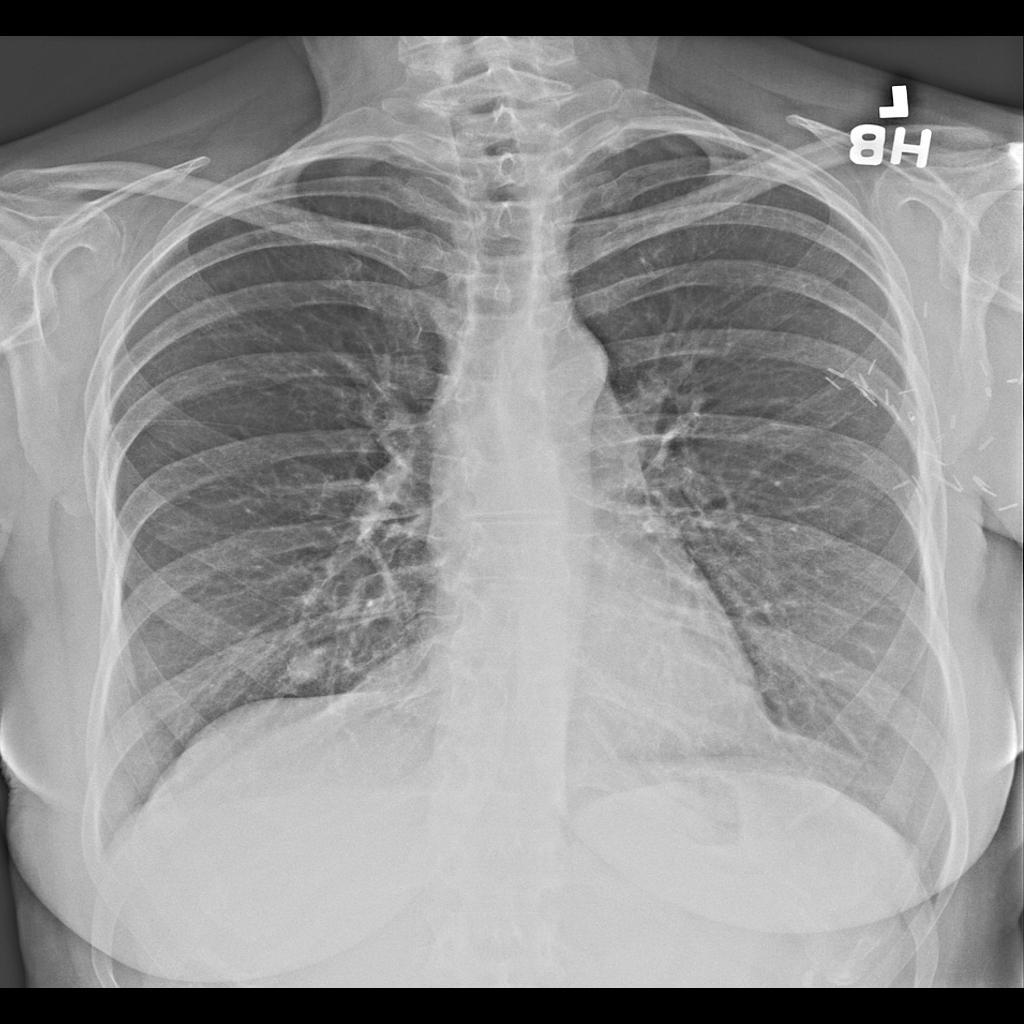Nodule: (282, 640, 328, 698)
